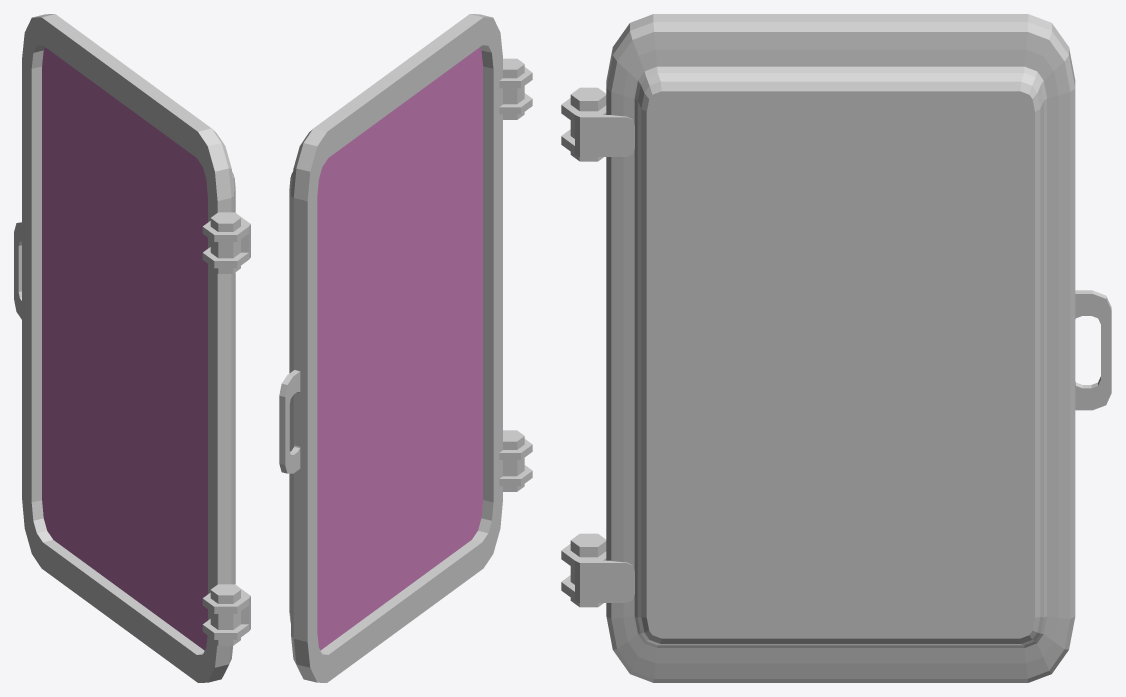
Rendered from breaker_cover.fbx.
The picture shows the model from 3 angles, left to right: view 1: azimuth 30°, elevation 25°; view 2: azimuth 150°, elevation 25°; view 3: azimuth 270°, elevation 25°; orthographic projection. The views are drawn at different scales.
Visible parts, largest first — view 1: breaker cover; view 2: breaker cover; view 3: breaker cover.
Part boxes in pixels (x1,y1,x2,y2): breaker cover: [14, 14, 250, 682]; breaker cover: [279, 14, 532, 682]; breaker cover: [561, 14, 1111, 682].
Size of the model in its own units: 8.59 by 87.81 by 66.3.
